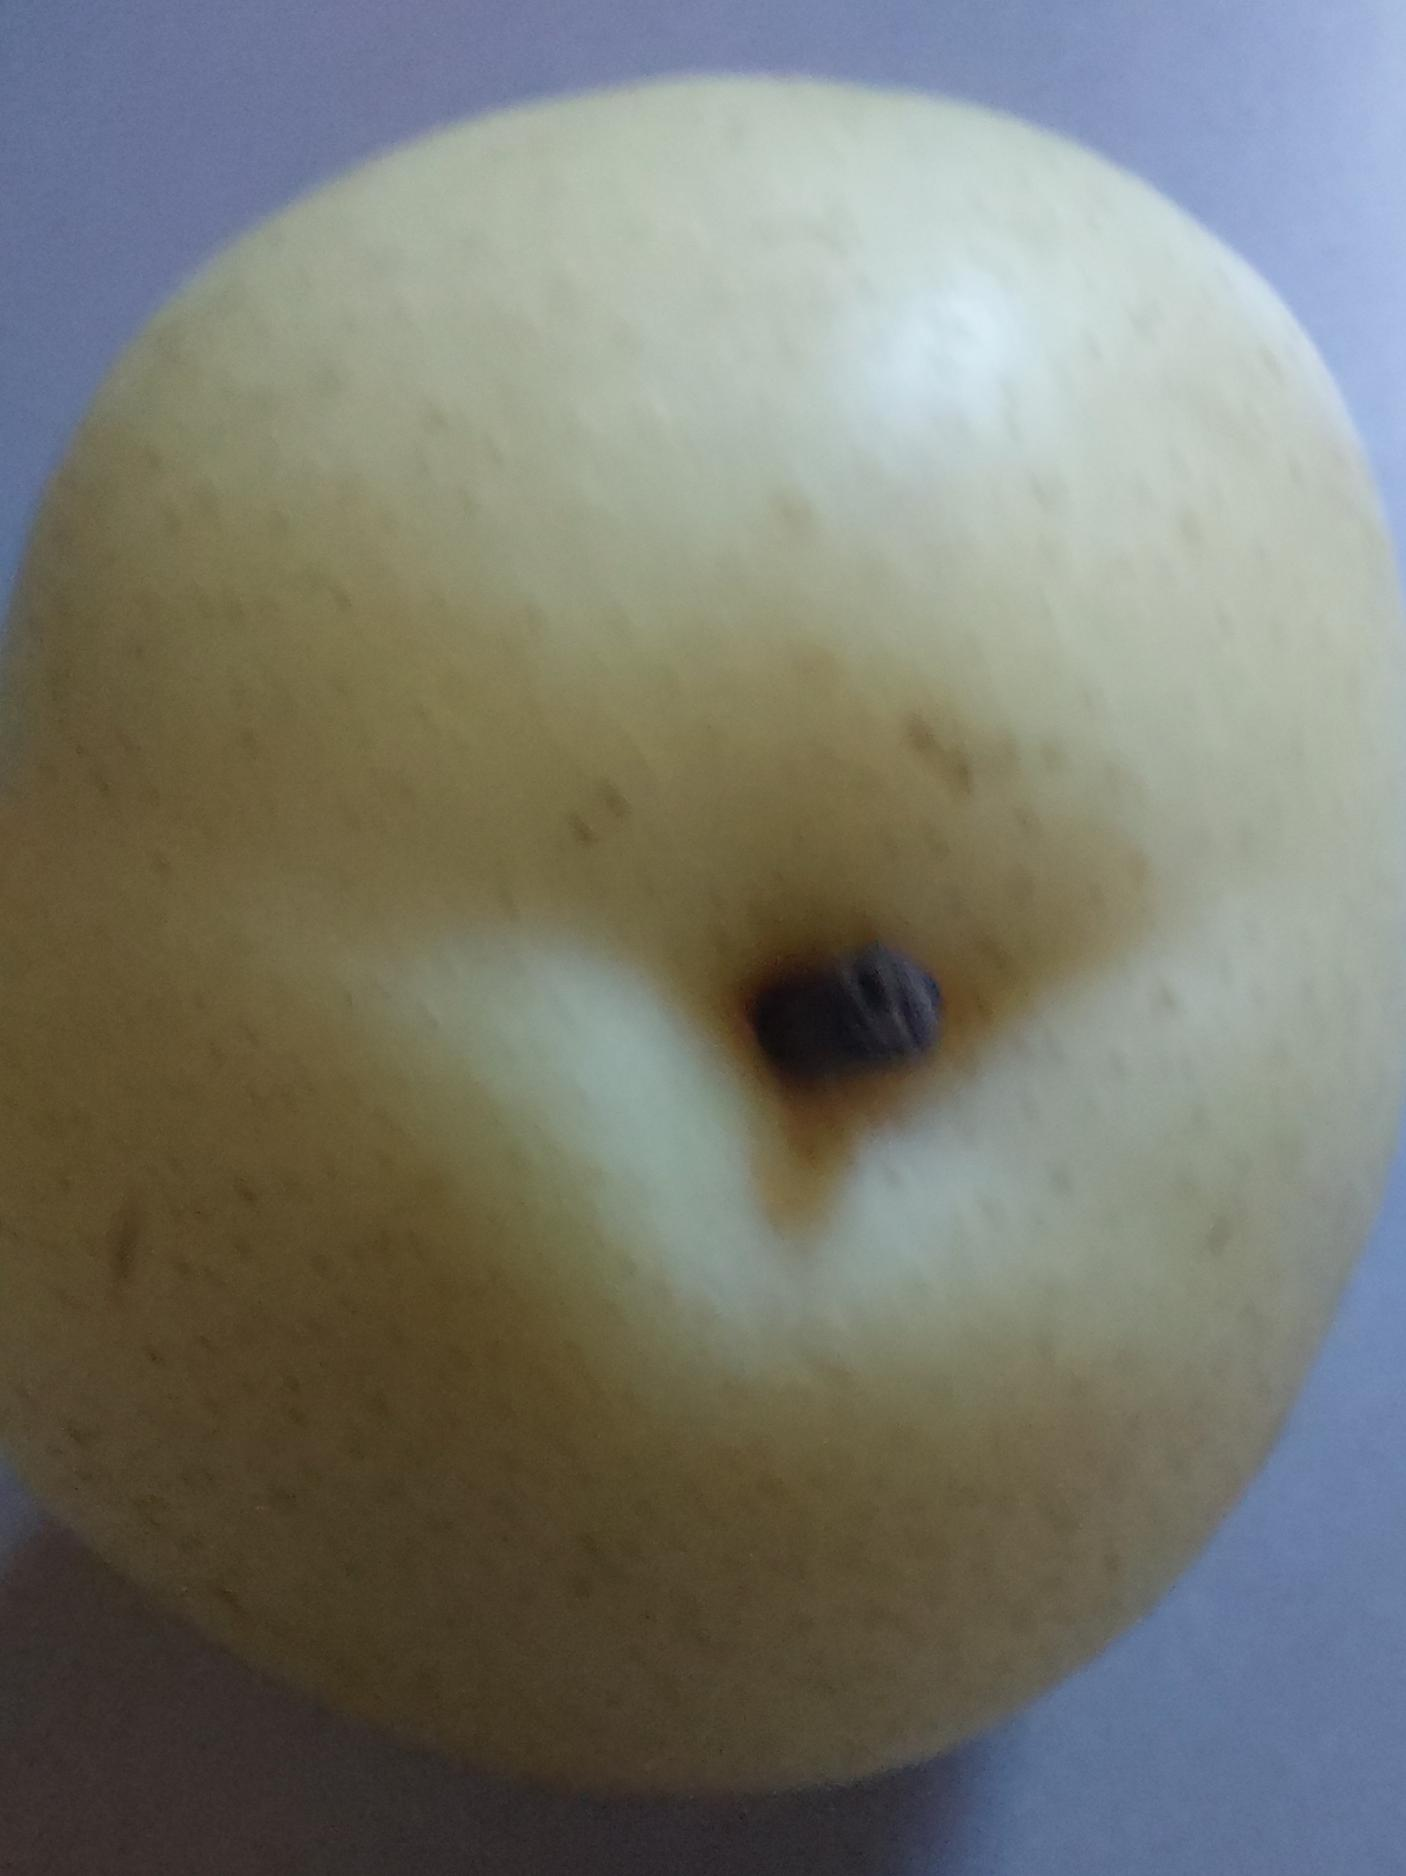Good Pear: (3, 44, 1406, 1810)
